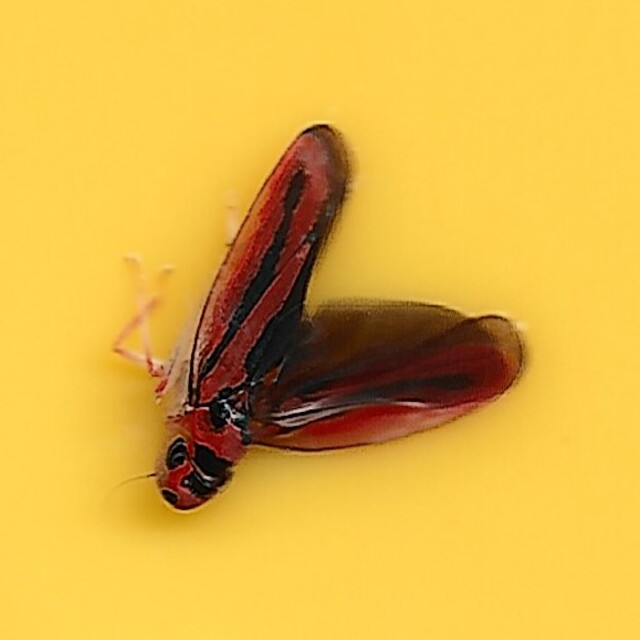Hemiptera: (111, 126, 529, 514)
